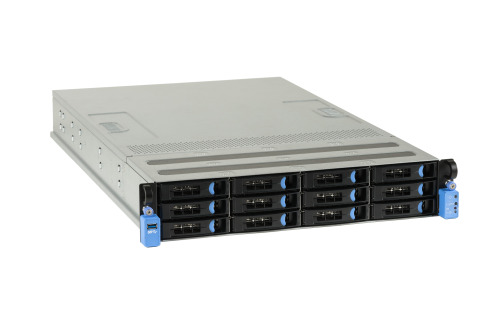ibm-server: (38, 69, 464, 254)
